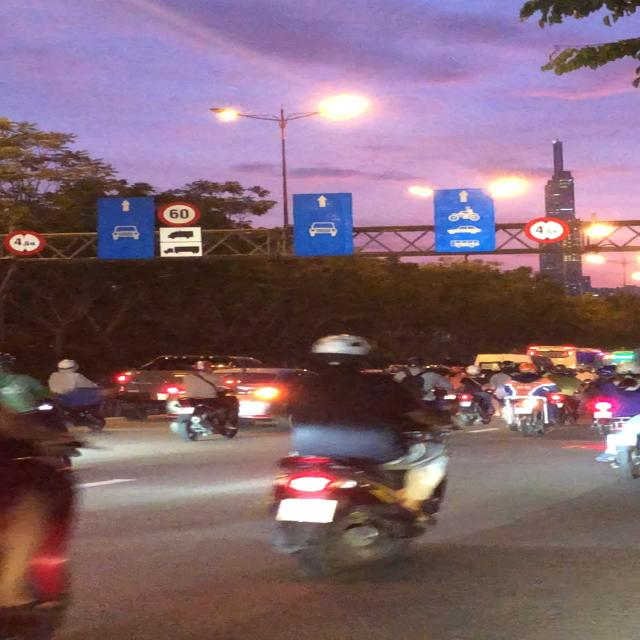Bien bao han che chieu cao: (518, 213, 582, 248), (3, 228, 55, 260)
Bien bao toc do toi da cho phep: (157, 197, 198, 230)
